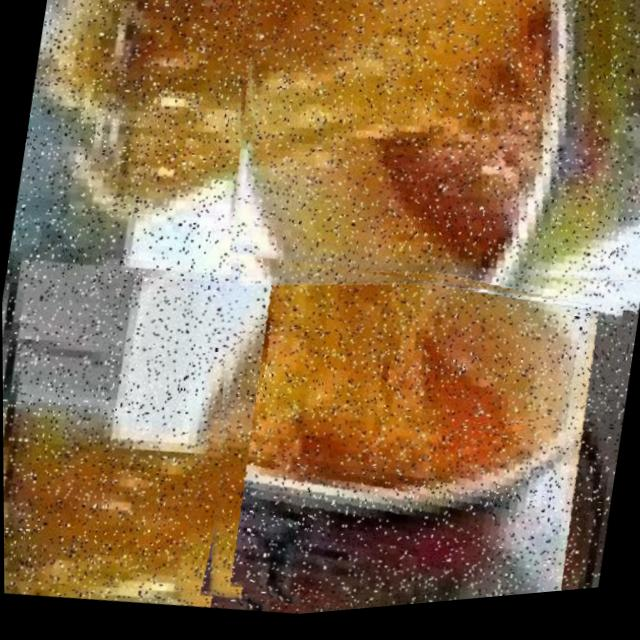Miscellaneous: (174, 215, 626, 628), (207, 0, 640, 356)
